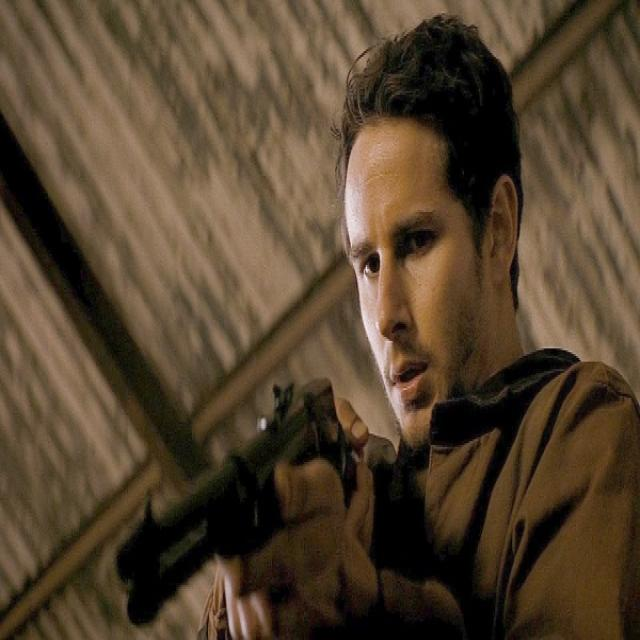rifle: (110, 366, 398, 630)
